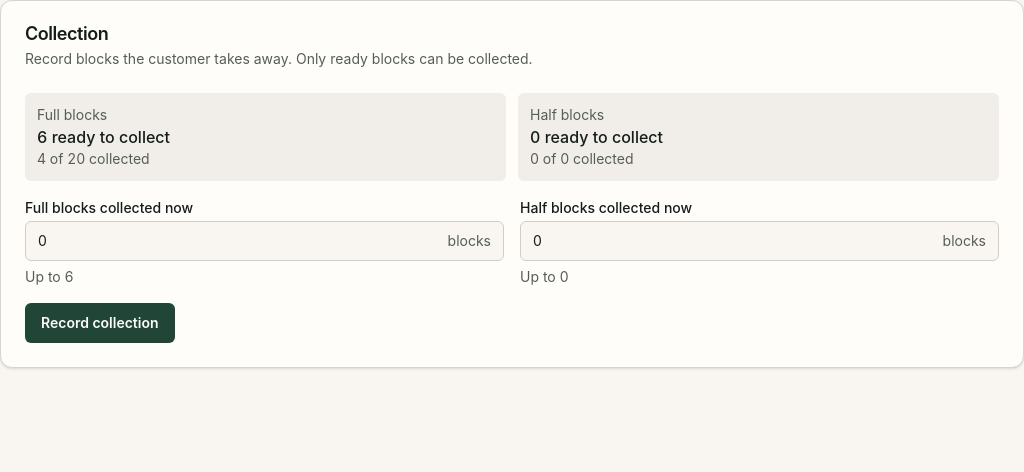
CollectionSection › shows a failure that is not tied to a field
Replace the text in the number field labelled "Full blocks collected now" with "2" at (237, 241), box [26,222,448,260]
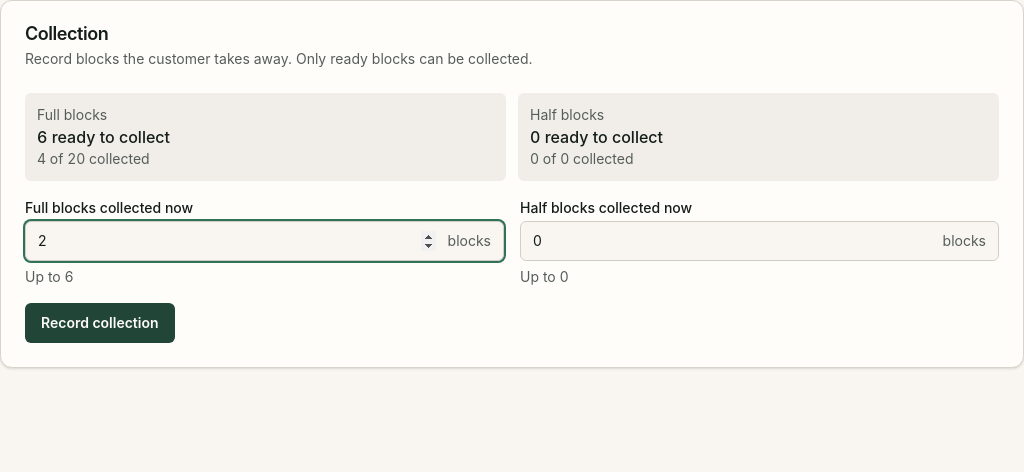
Click the button "Record collection" at (100, 323), box [25,303,175,343]
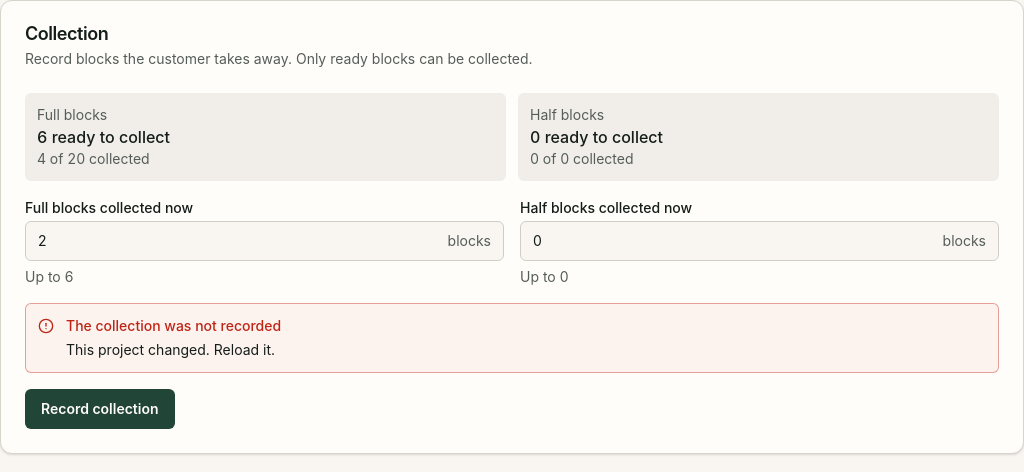
Now the message shows "This project changed. Reload it.", box [66,341,275,358]
